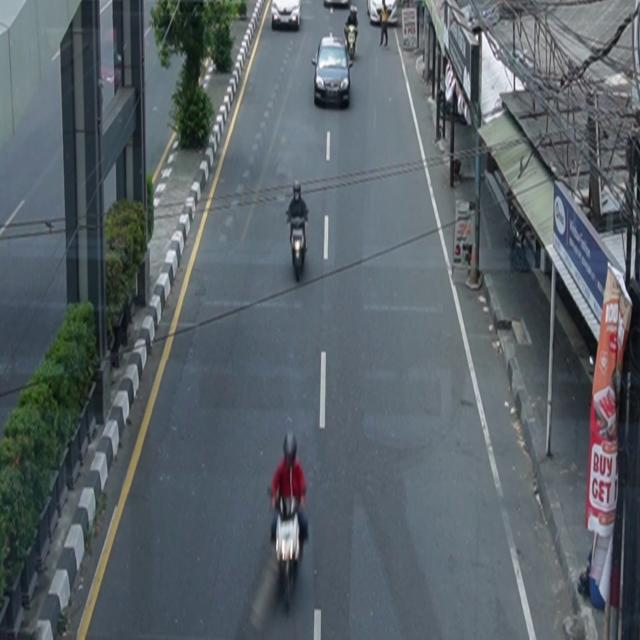car: (312, 33, 354, 109), (272, 1, 302, 31), (368, 1, 399, 26)
